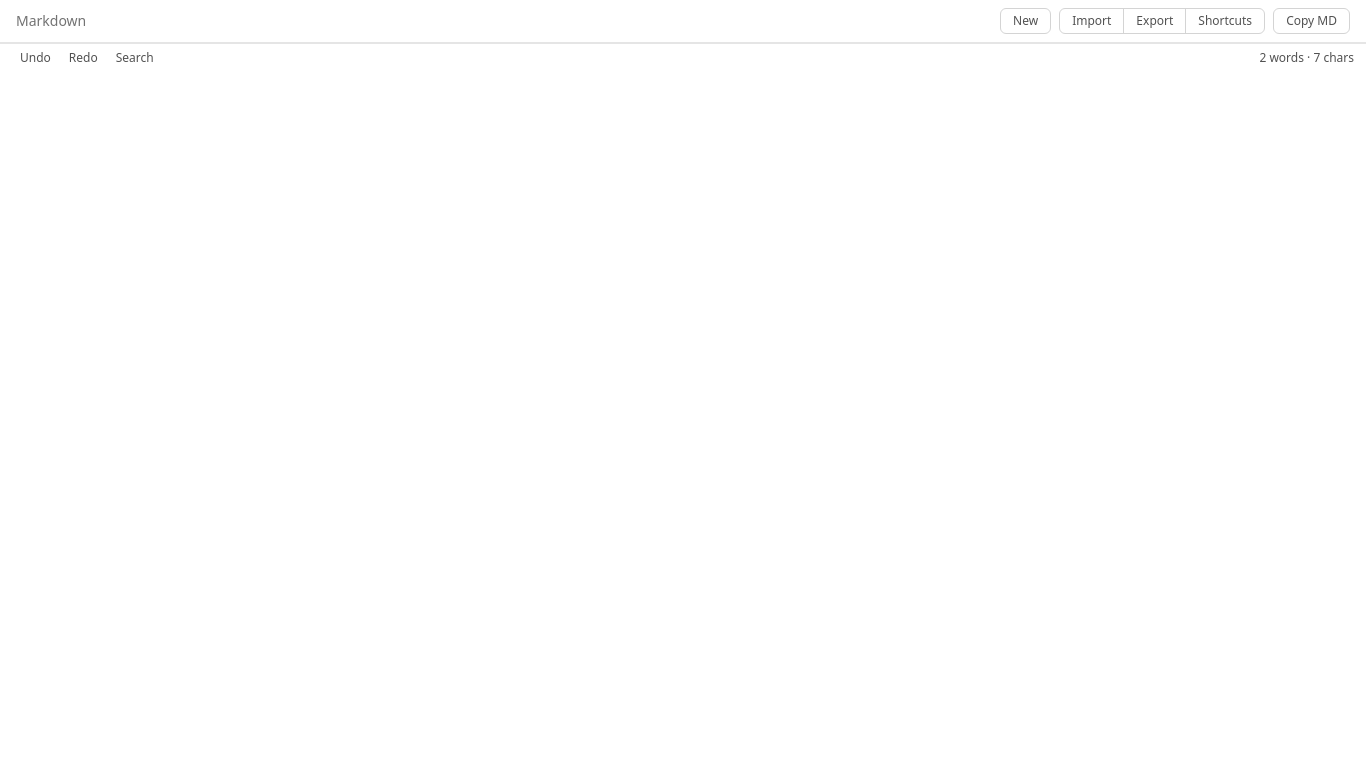
it: MarkdownInput — new document flow › clicking No dismisses the modal
Click the button titled "New document (clears editor)" at (1026, 21), box [1000, 8, 1051, 34]
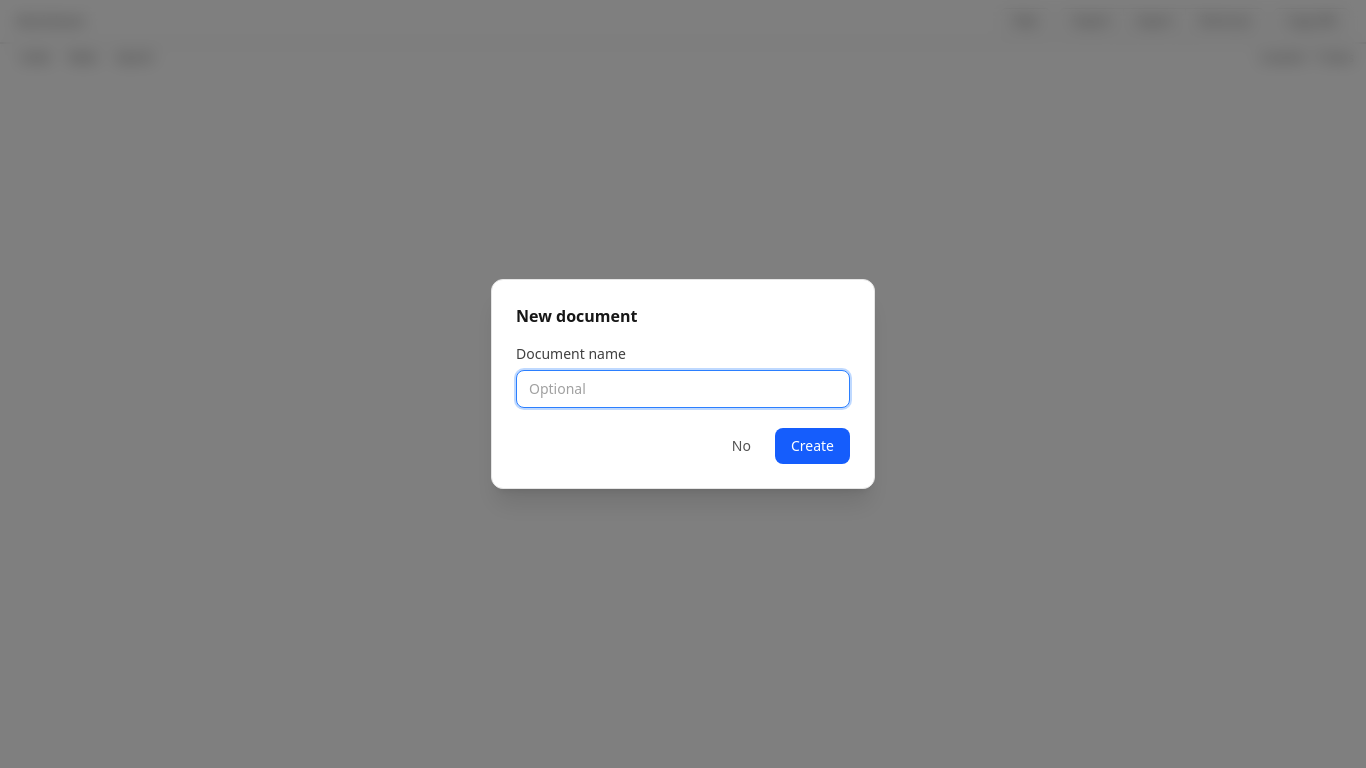
Click the button "No" at (741, 446), box [716, 428, 767, 464]
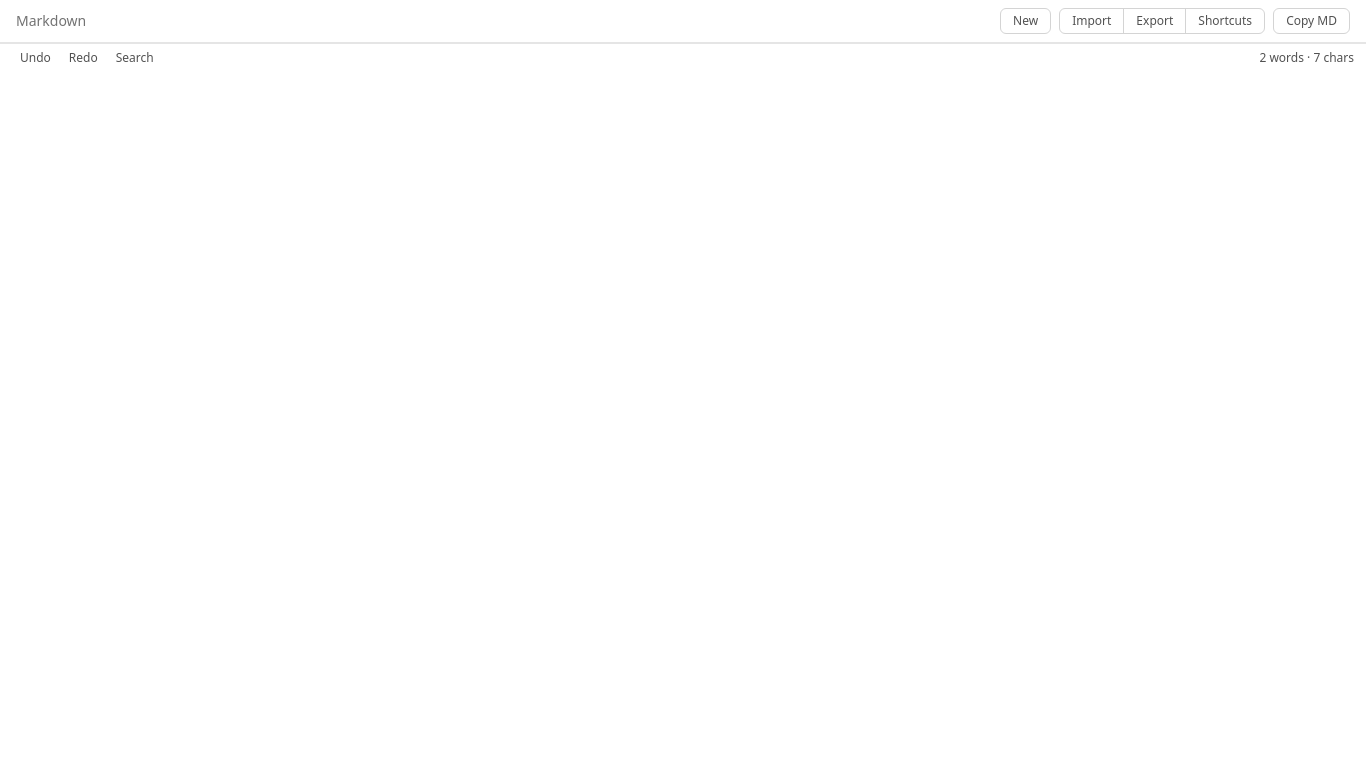
Expected: the heading "New document" is gone
